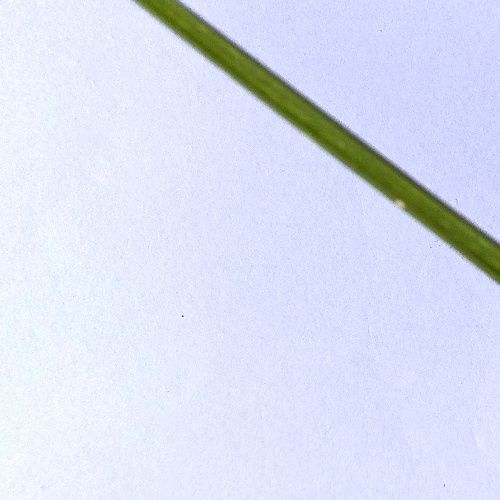Busuk Leher: (390, 194, 412, 214)
